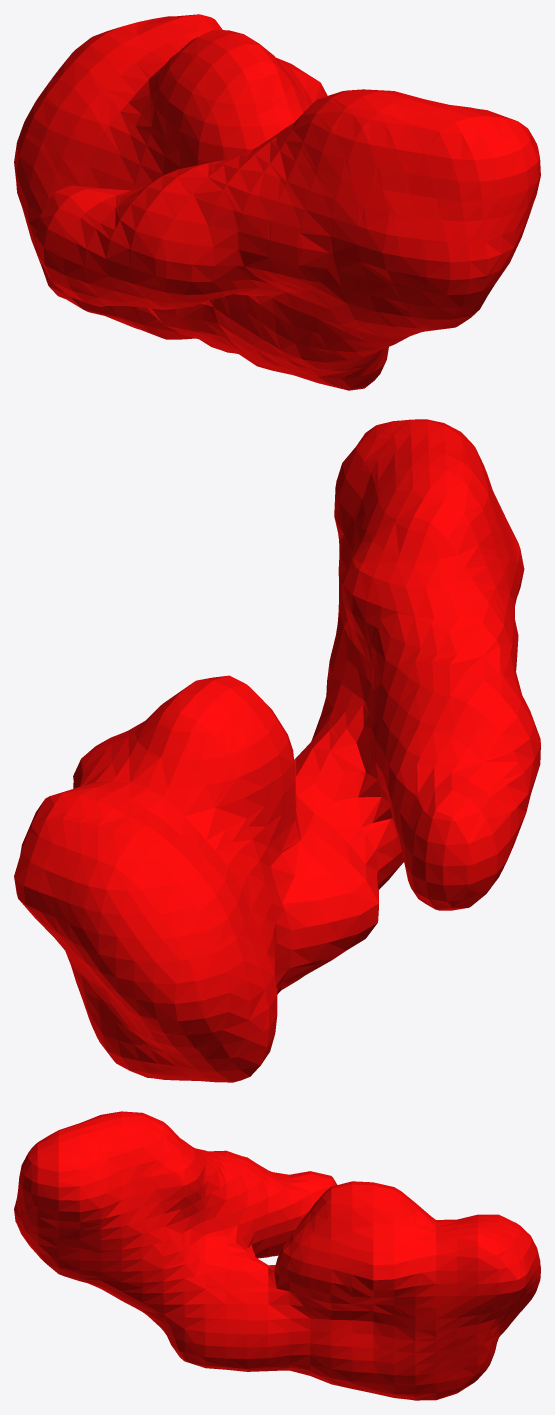
The model's file is yibL_coarse.dae.
3 renders of one model, top to bottom at view 1: azimuth 30°, elevation 25°; view 2: azimuth 150°, elevation 25°; view 3: azimuth 270°, elevation 25°, orthographic. The views are drawn at different scales.
Visible parts, largest first — view 1: yibL; view 2: yibL; view 3: yibL.
Boxes of the visible parts, x1,y1,x2,y2 form: yibL: (14,14,540,390); yibL: (14,419,540,1082); yibL: (14,1111,540,1400).
Size of the model in its own units: 36.09 by 41.32 by 71.93.
